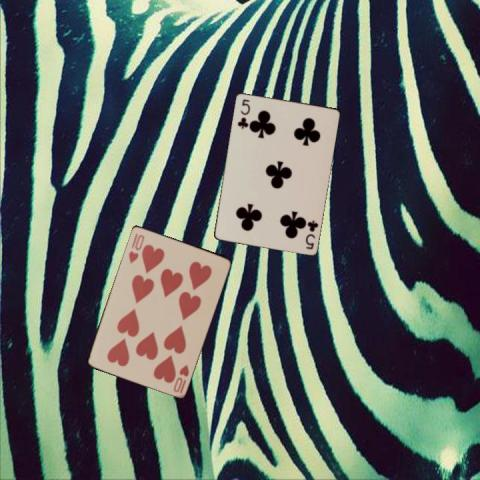10h: (126, 230, 146, 265), (170, 361, 190, 395)
5c: (234, 96, 251, 130), (303, 216, 319, 250)
